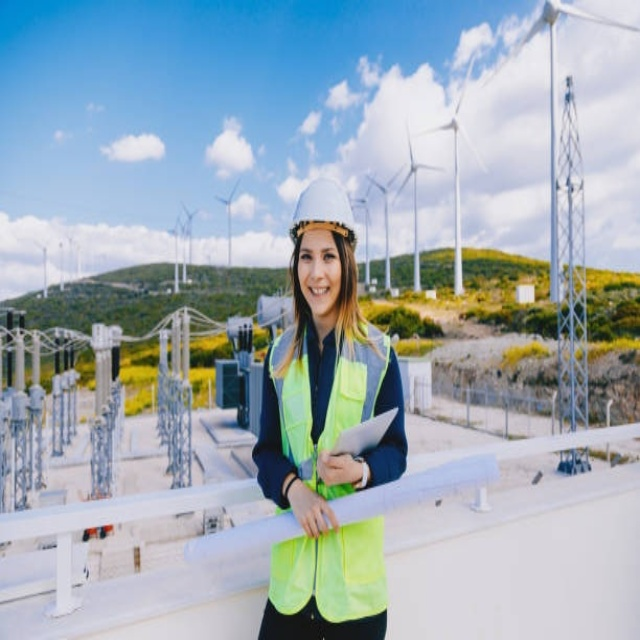Sin_gafas: (298, 248, 338, 271)
Sin_guantes: (287, 478, 342, 540), (315, 449, 362, 490)
Sin_mascara: (304, 281, 334, 306)
